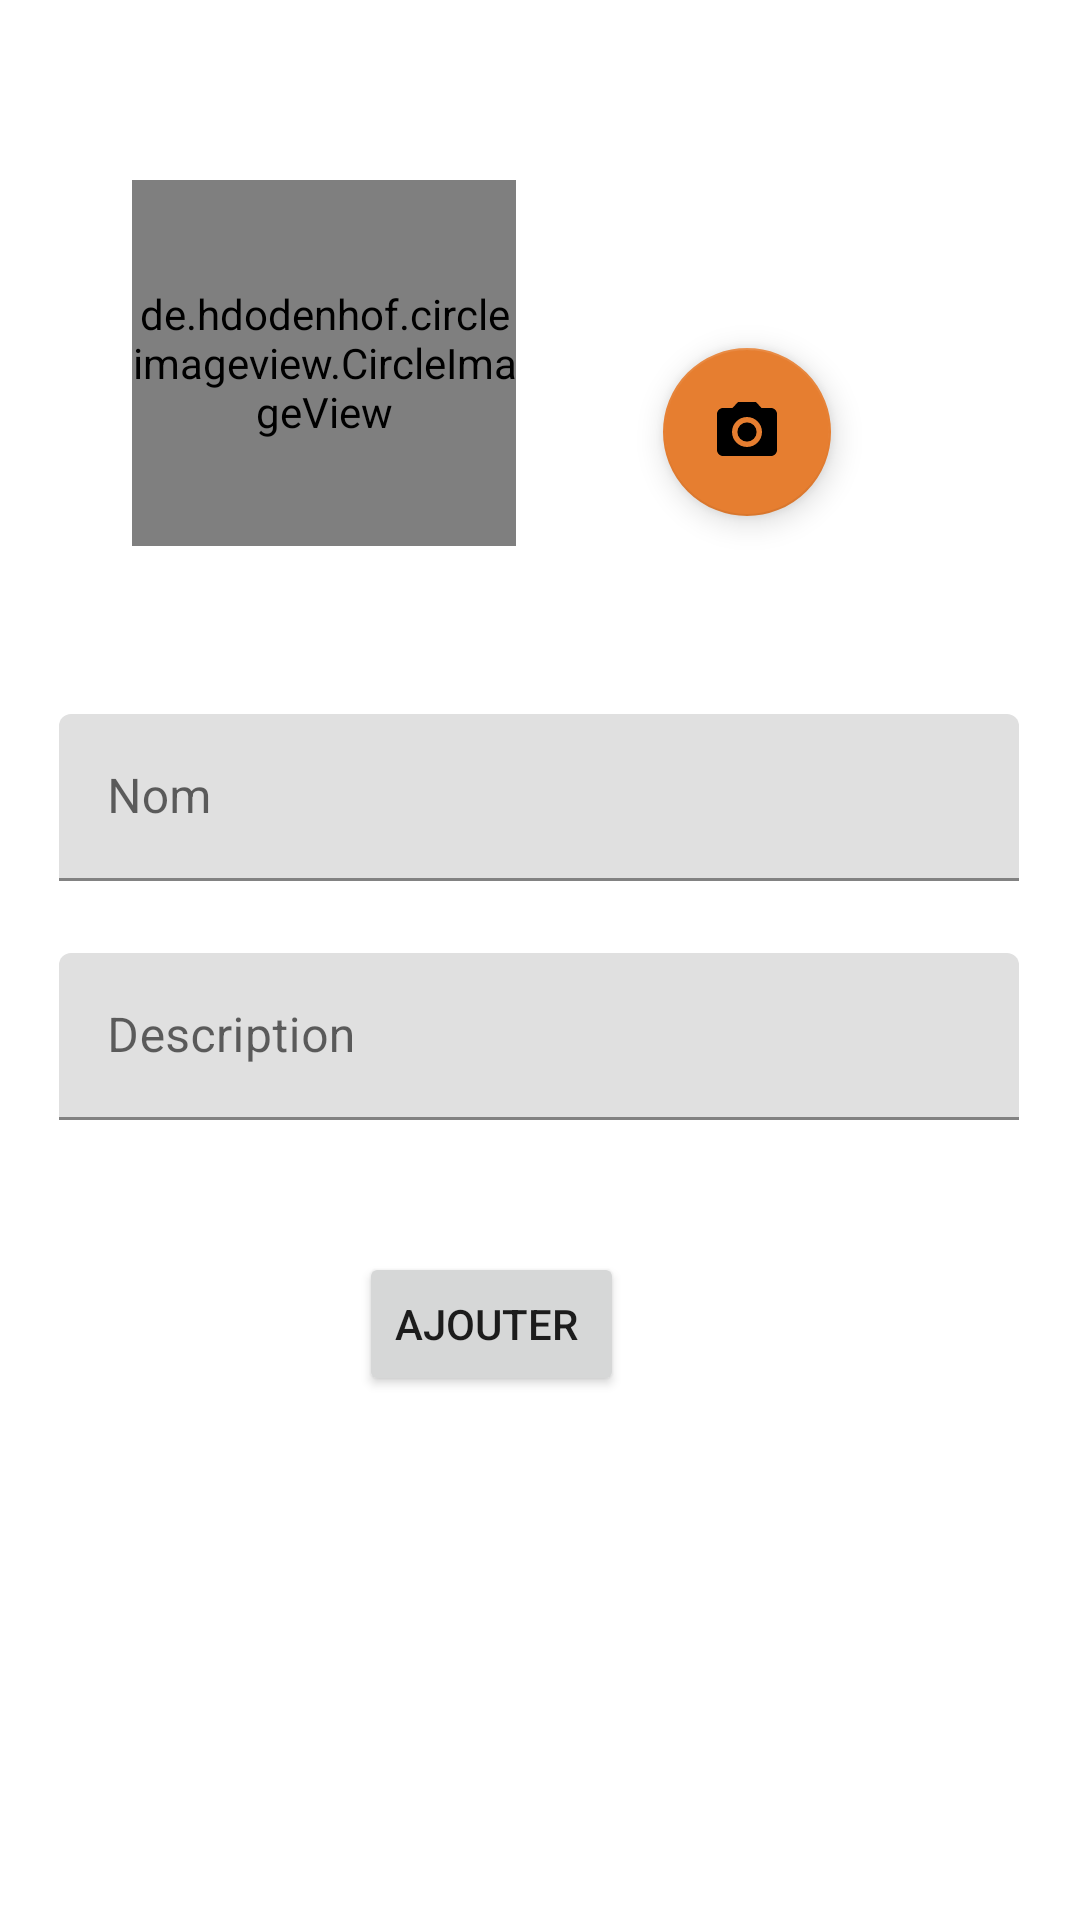

Icons on this 1080w x 1920h Android screen, each with its box as (x1, y1, x2, y2):
photo camera: (663, 348, 831, 516)
